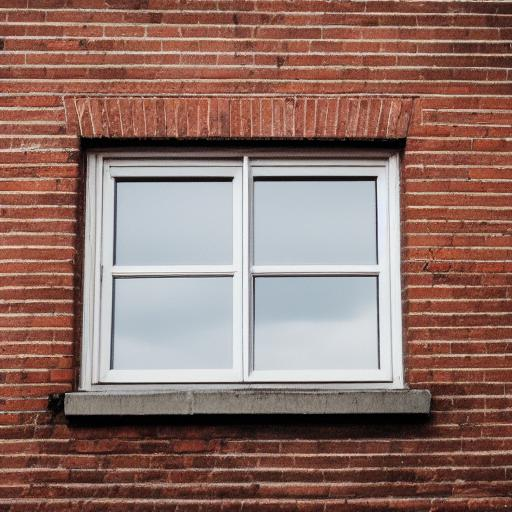Window: (62, 91, 434, 421)
